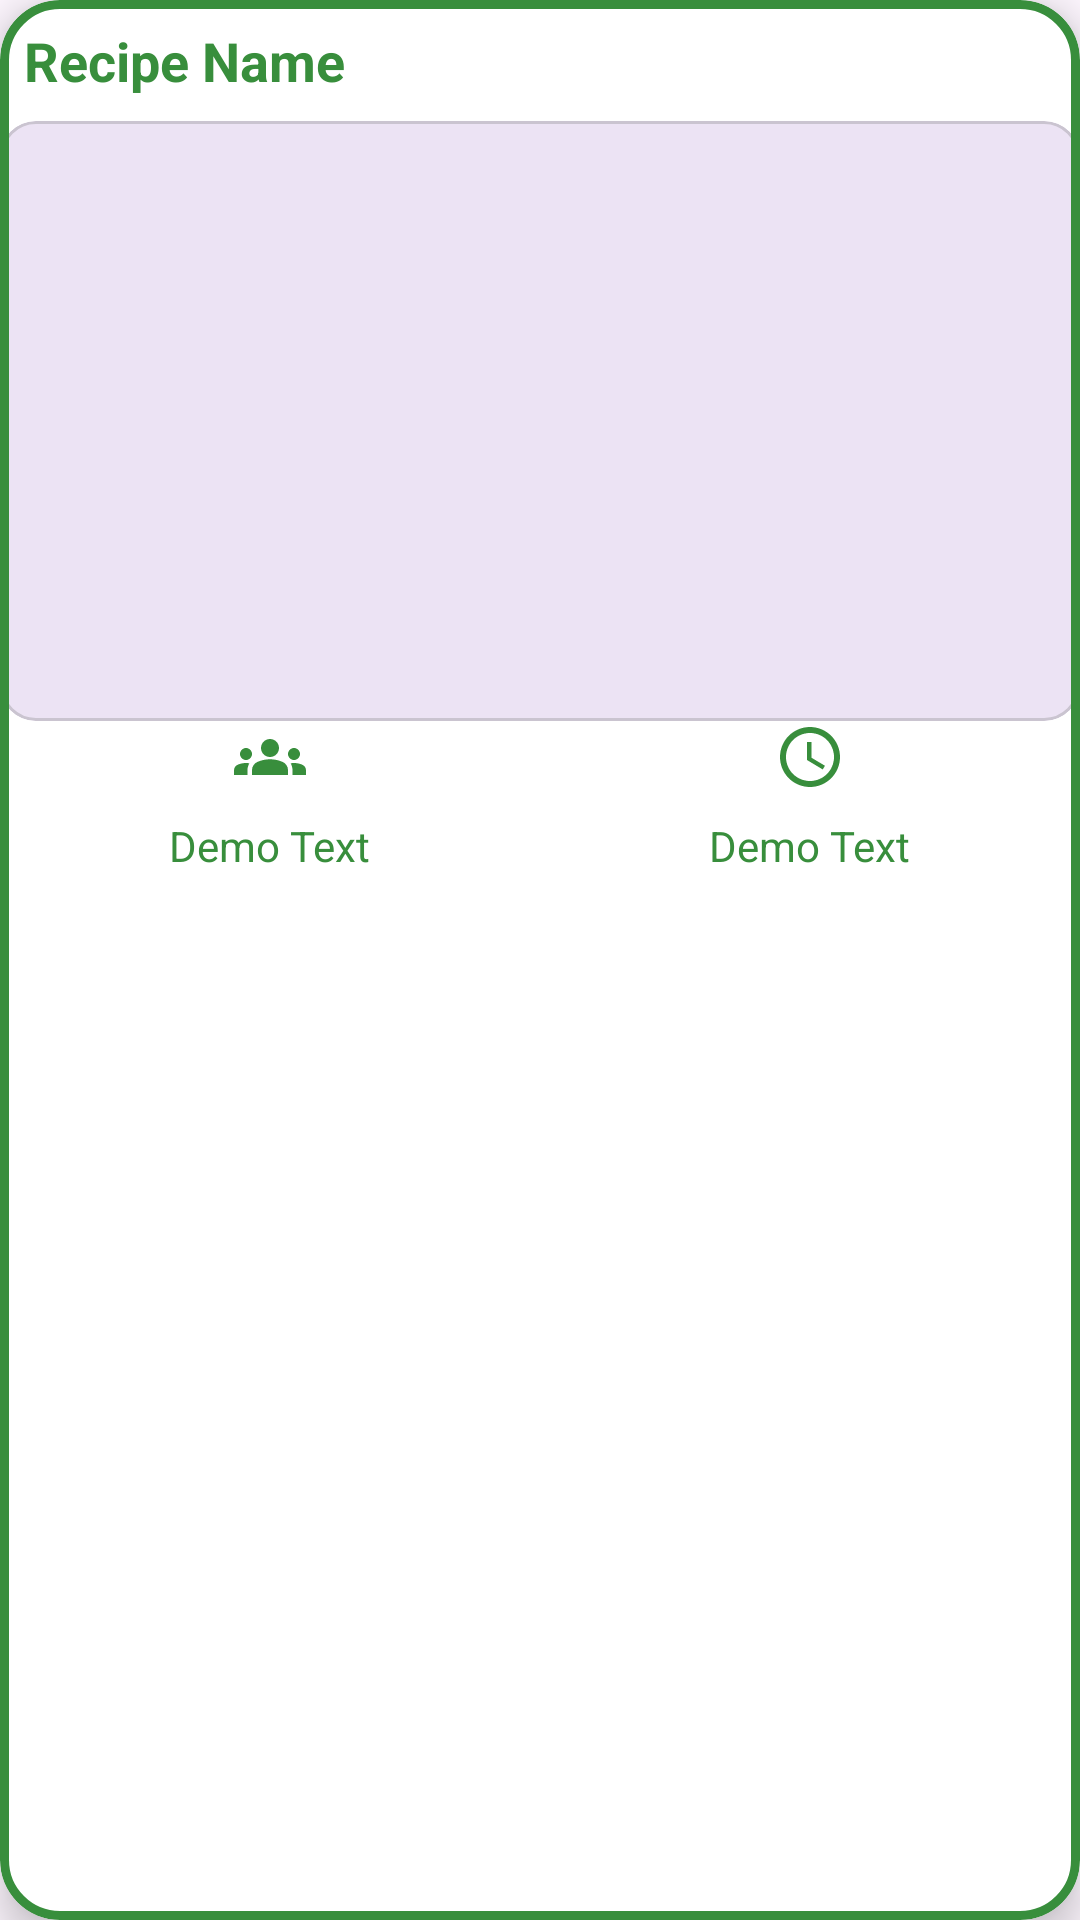

Icons on this 1080px x 1920px Android screen, each with the point to tap as point (x, y):
servings: point (270, 757)
time: point (810, 757)
